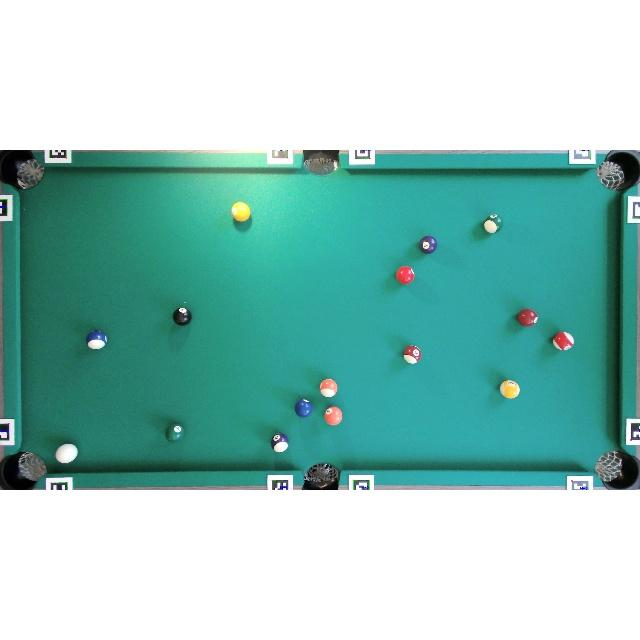cue ball: (55, 444, 79, 464)
other: (86, 329, 107, 350), (231, 201, 251, 222), (552, 332, 574, 351), (517, 308, 538, 327), (165, 422, 184, 442), (403, 345, 422, 364), (271, 433, 289, 453), (295, 398, 313, 418), (500, 380, 520, 398), (484, 214, 502, 234), (324, 406, 342, 426), (173, 307, 192, 325), (396, 266, 415, 284), (320, 379, 338, 397), (419, 236, 437, 253)
